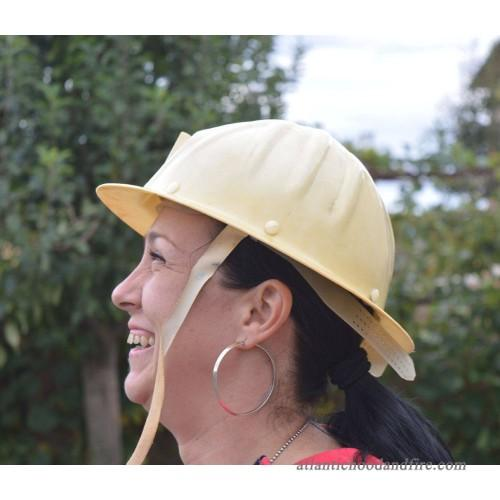helmet: (98, 119, 419, 353)
